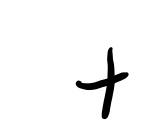plus: (77, 47, 126, 118)
